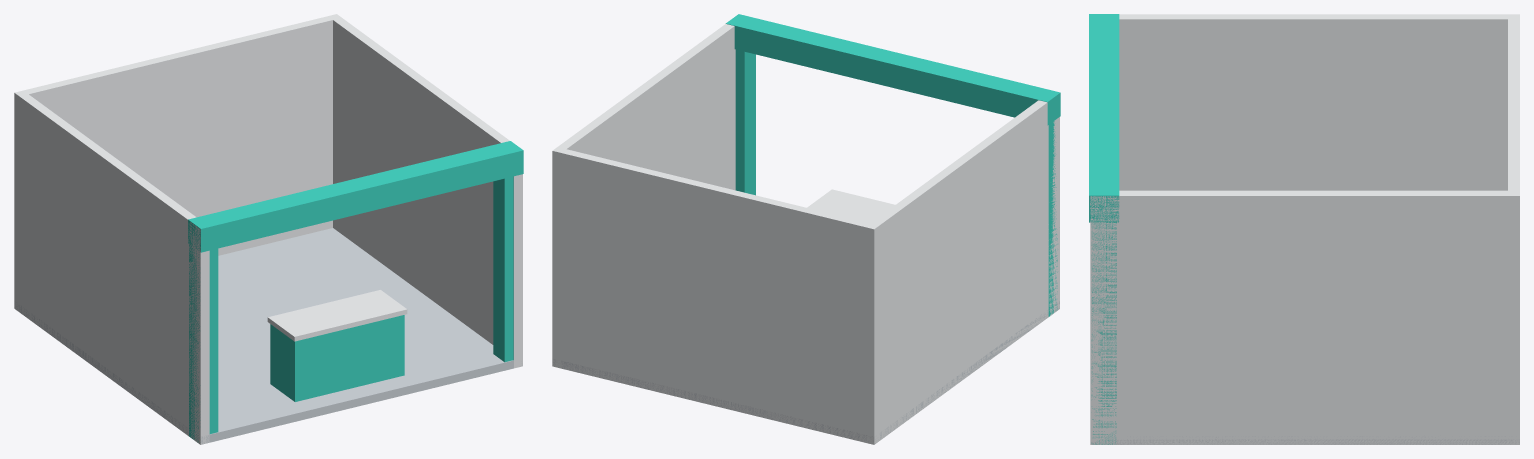
3 renders of one model, left to right at view 1: azimuth 30°, elevation 25°; view 2: azimuth 150°, elevation 25°; view 3: azimuth 270°, elevation 25°, orthographic. The views are drawn at different scales.
Parts seen in each view (by area): view 1: Exhibition Booth Concept; view 2: Exhibition Booth Concept; view 3: Exhibition Booth Concept.
Part boxes in pixels (x1=…): Exhibition Booth Concept: x1=14, y1=14, x2=523, y2=444; Exhibition Booth Concept: x1=552, y1=14, x2=1060, y2=444; Exhibition Booth Concept: x1=1089, y1=14, x2=1519, y2=444.
Bounding box in the file's own units: 5 × 3.2 × 5.02.
